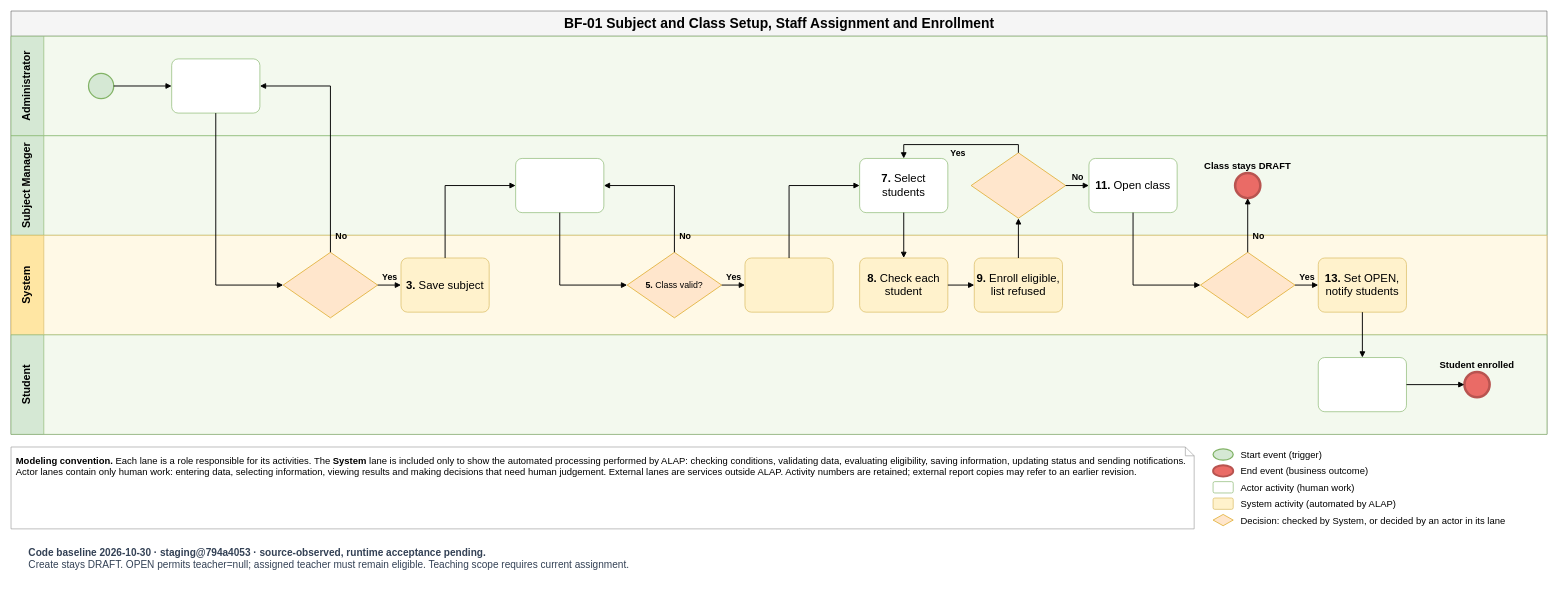
Image size: 1558x606. Some labels were removed from this diagram. Each missing label, with the centre of its shape:
"1. Add subject and manager" goes at point 215,85.
"10. More students?" goes at point 1018,185.
"12. Active subject? No enrollment conflict?" goes at point 1247,285.
"14. View class" goes at point 1362,384.
"2. Subject valid?" goes at point 330,285.
"4. Create class Teacher optional" goes at point 559,185.
"6. Save class as DRAFT" goes at point 788,284.
"Subject needed" goes at point 101,85.
